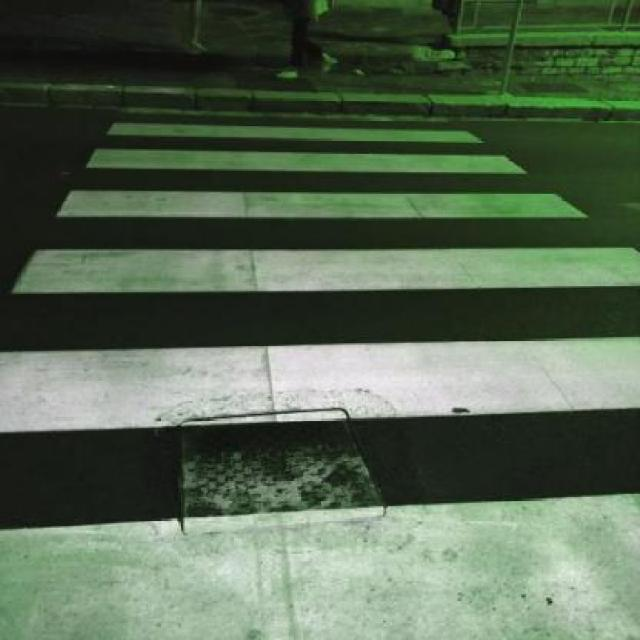crosswalk: (0, 121, 640, 639)
